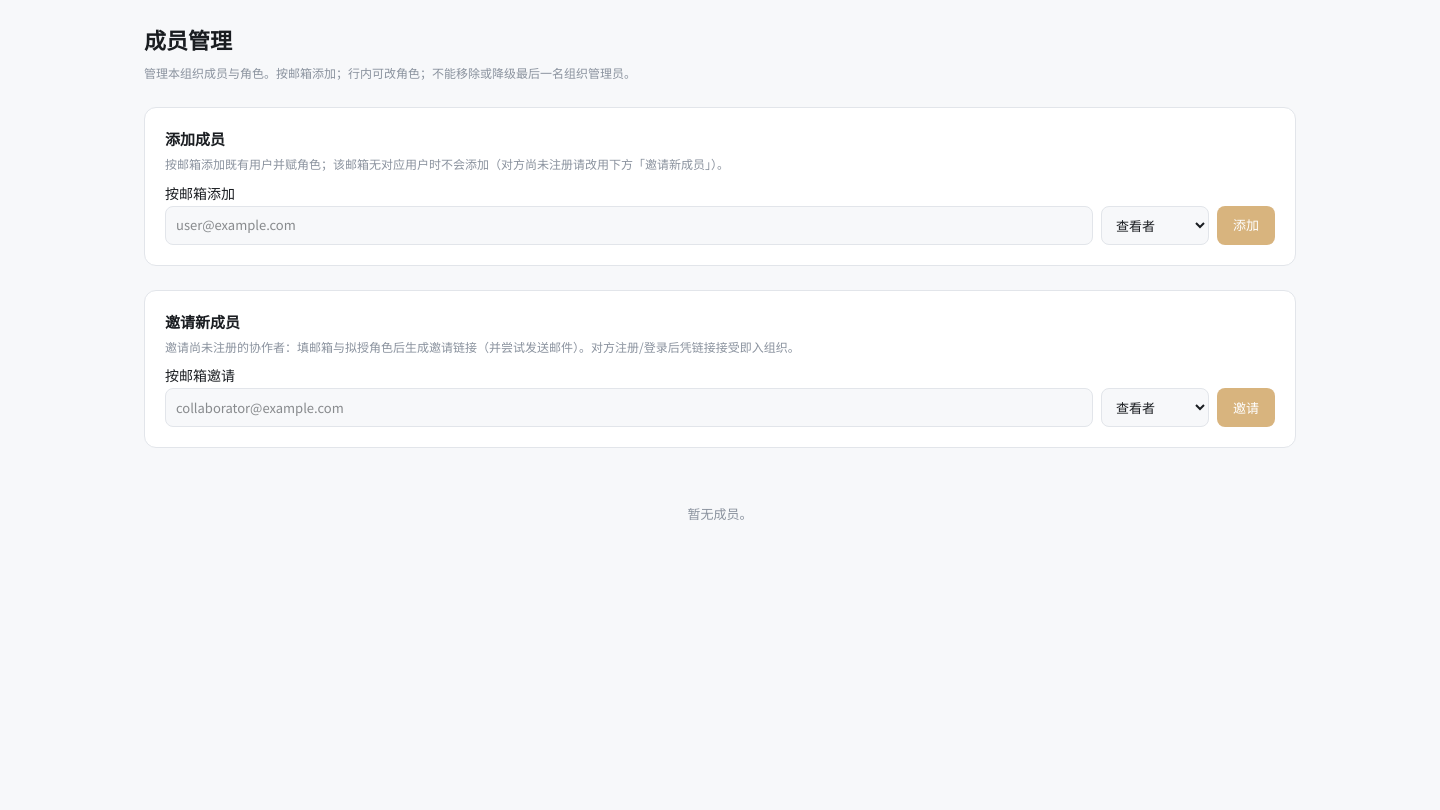
Test: MembersPage › shows 用户不存在 toast on add 404
In the field labelled "按邮箱添加": (629, 225) [165, 206, 1093, 244], type "ghost@example.com"
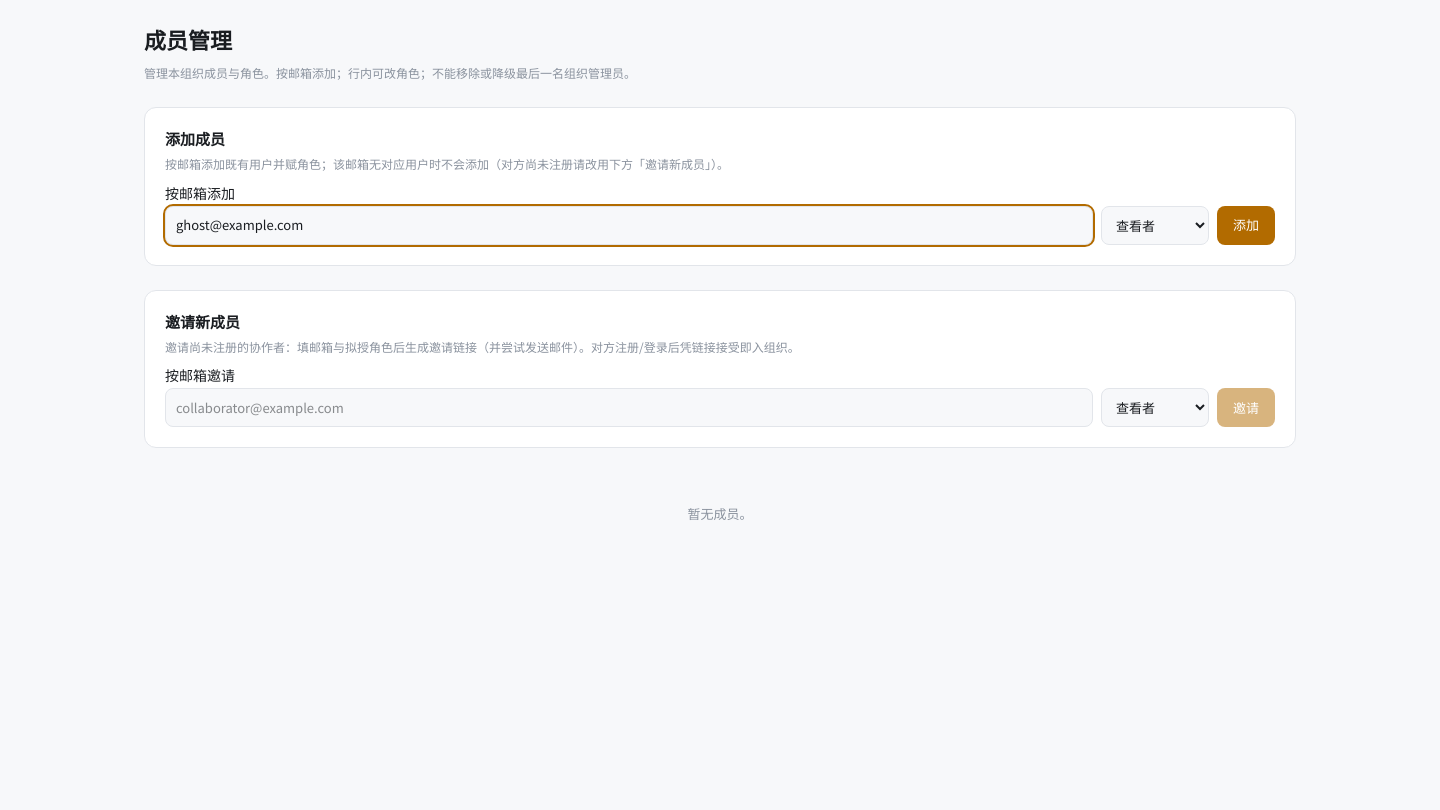
Click the button "添加": (1246, 225) [1217, 206, 1275, 244]
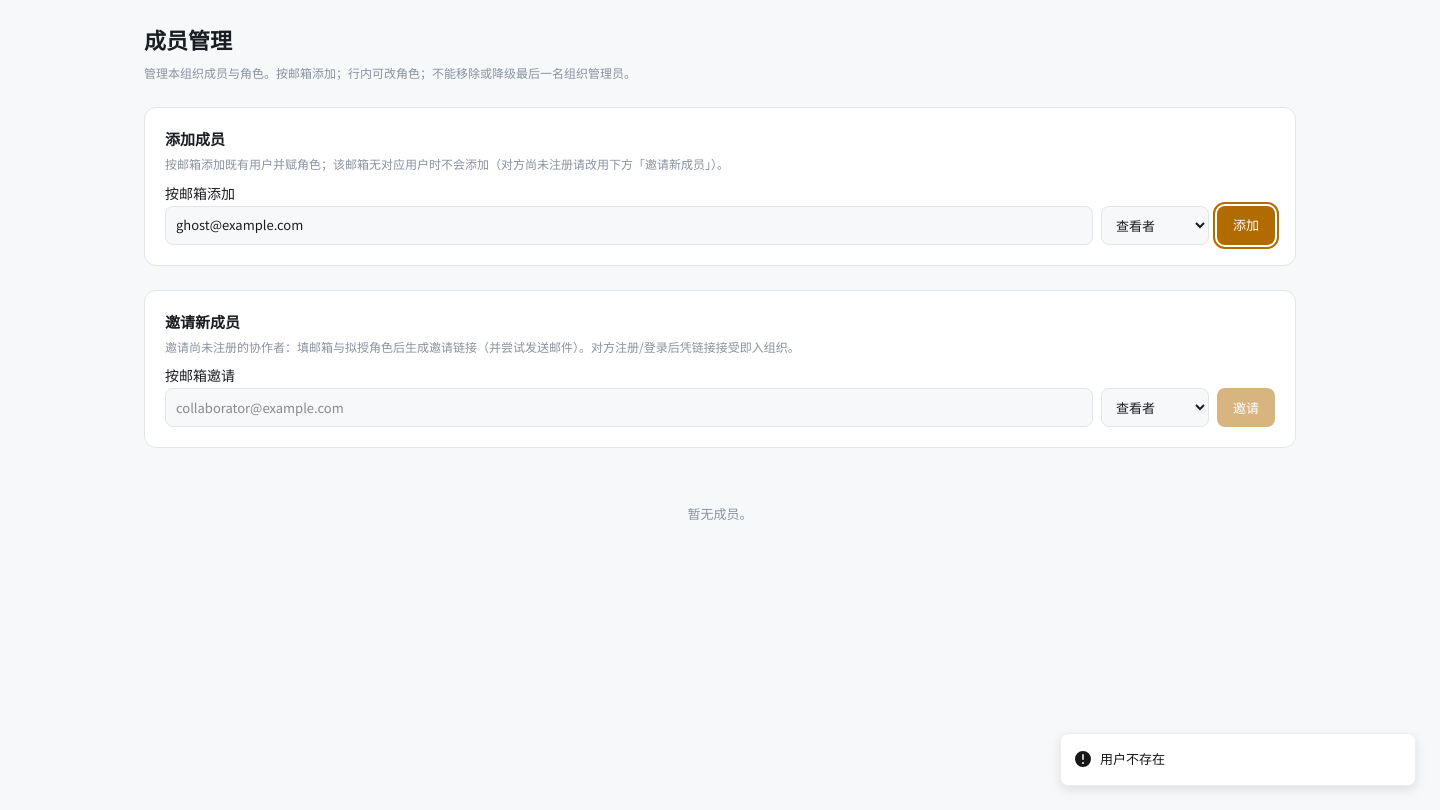
expect the text "用户不存在" is shown: met, box [1100, 750, 1165, 769]
